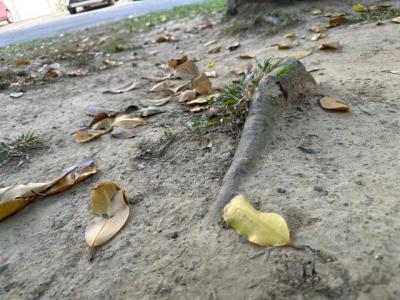Root: (209, 58, 315, 220)
